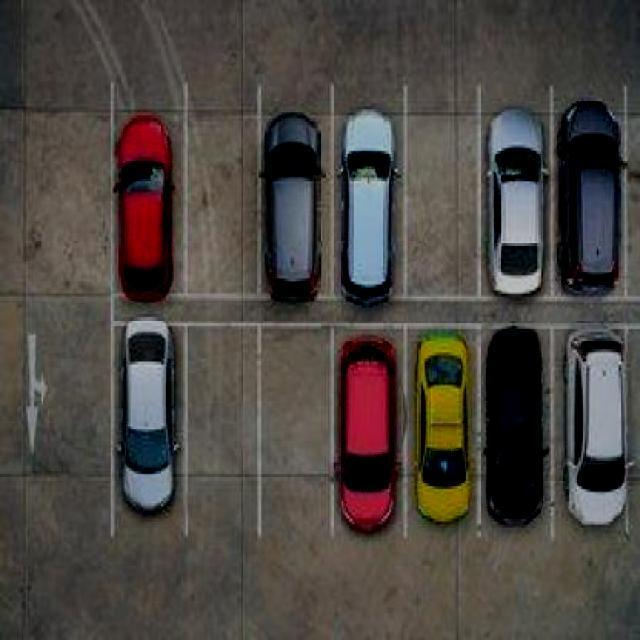space-empty: (182, 332, 256, 523), (186, 95, 255, 294), (267, 335, 330, 540), (415, 101, 480, 290)
space-occupied: (472, 95, 543, 294), (560, 83, 629, 286), (338, 92, 400, 314), (115, 314, 180, 523), (484, 329, 552, 526), (563, 332, 628, 532), (259, 106, 325, 299), (342, 353, 399, 572), (117, 116, 176, 302), (417, 340, 475, 529)
